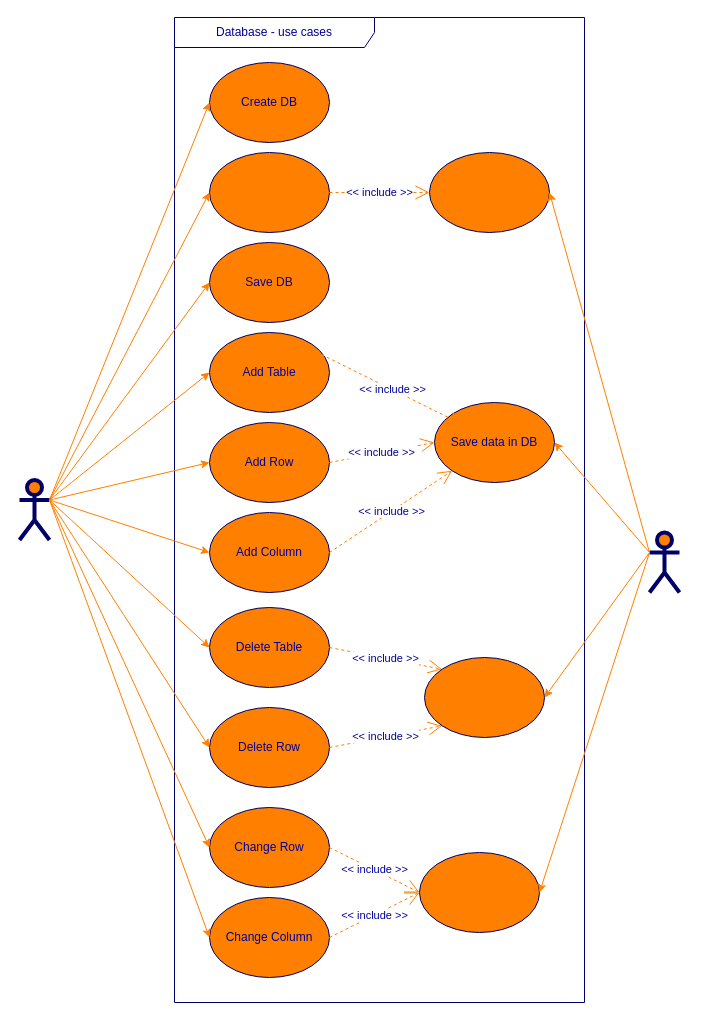
The diagram is 707 pixels wide and 1020 high, and some of its shapes have lost their labels. The centre of each missing label's shape, as x and y in pixels:
"Change data in DB" goes at point 479,892.
"Database manager" goes at point 664,562.
"Delete data in DB" goes at point 484,697.
"Load DB" goes at point 489,192.
"Open DB" goes at point 269,192.
"User" goes at point 34,510.
